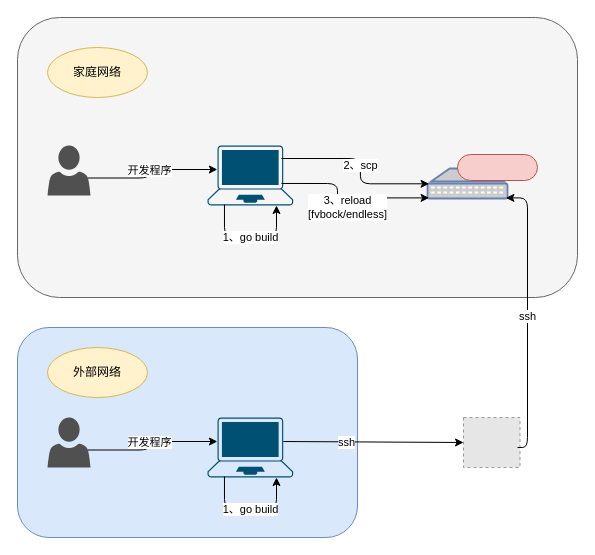
Some shapes in this 595 by 555 pixel diagram are drawn without their labels. Grey dashed boxes stand in for pictures. The shapes that lost their labels are listed below. From the top down, each one's box as (x1, y1, x2, y2) in pixels, then its label:
(426, 167, 508, 199): 微型主机
(456, 154, 538, 180): golang服务
